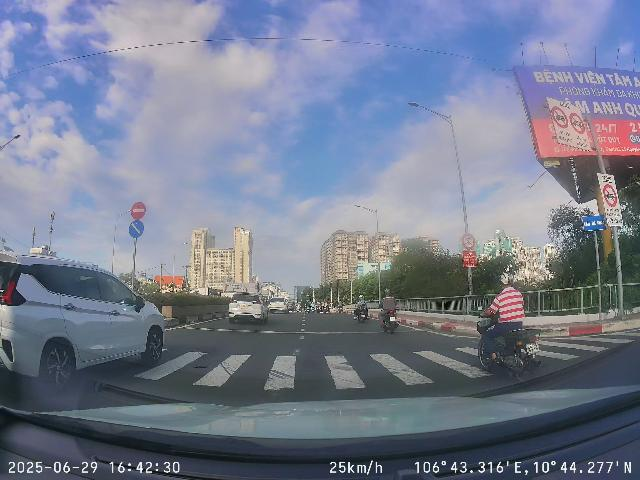102-cam-di-nguoc-chieu: (131, 202, 146, 220)
106-cam-oto-tai: (552, 106, 569, 128), (570, 112, 585, 134)
302a-huong-phai-di-vong-chuong-ngai-vat-1: (129, 220, 144, 238)
